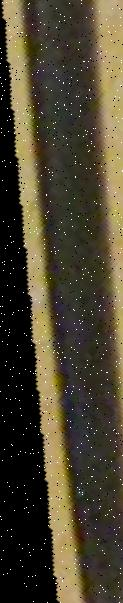green: (1, 0, 122, 603)
